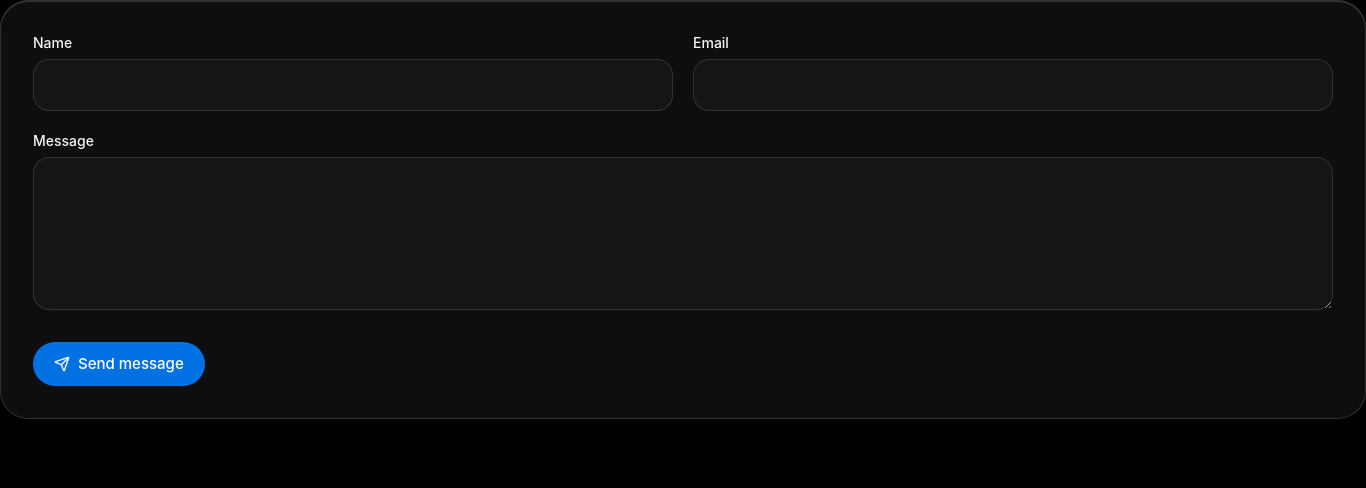
it: ContactForm › shows field errors and sends nothing when the form is empty
This screenshot has width=1366, height=488.
Click the button "Send message" at coordinates (119, 364), box [33, 342, 205, 386]
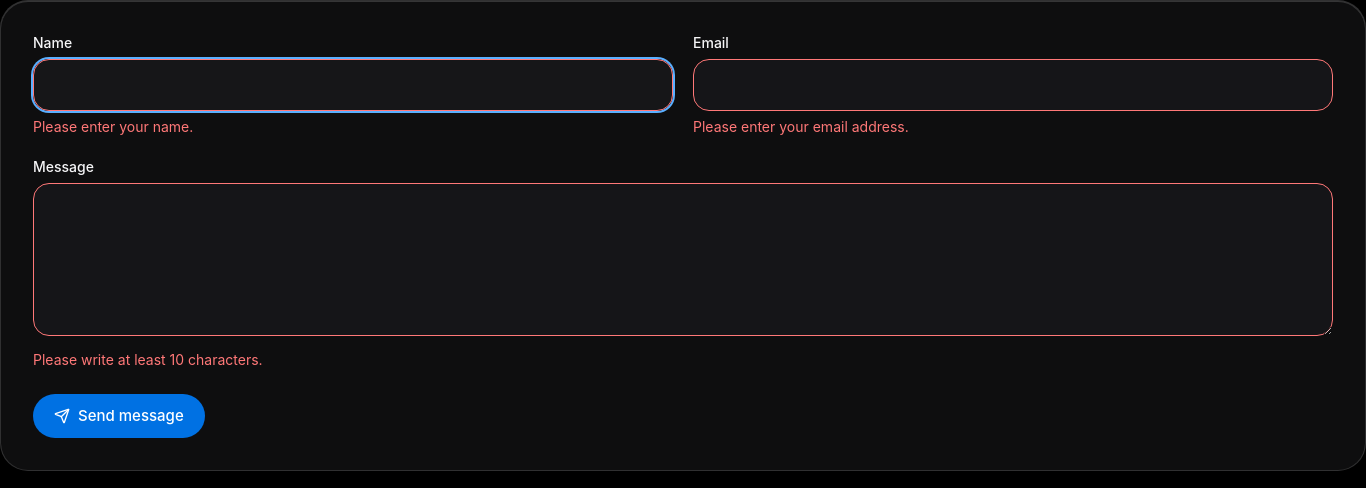
Expected: the text "Please enter your name." is shown, [33, 118, 193, 134]
Expected: the text "Please enter your email address." is shown, [693, 118, 909, 134]
